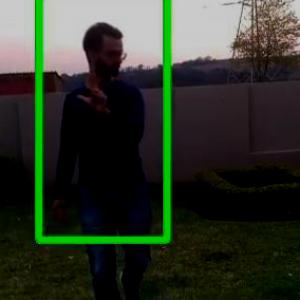land_hand: (78, 69, 117, 119)
